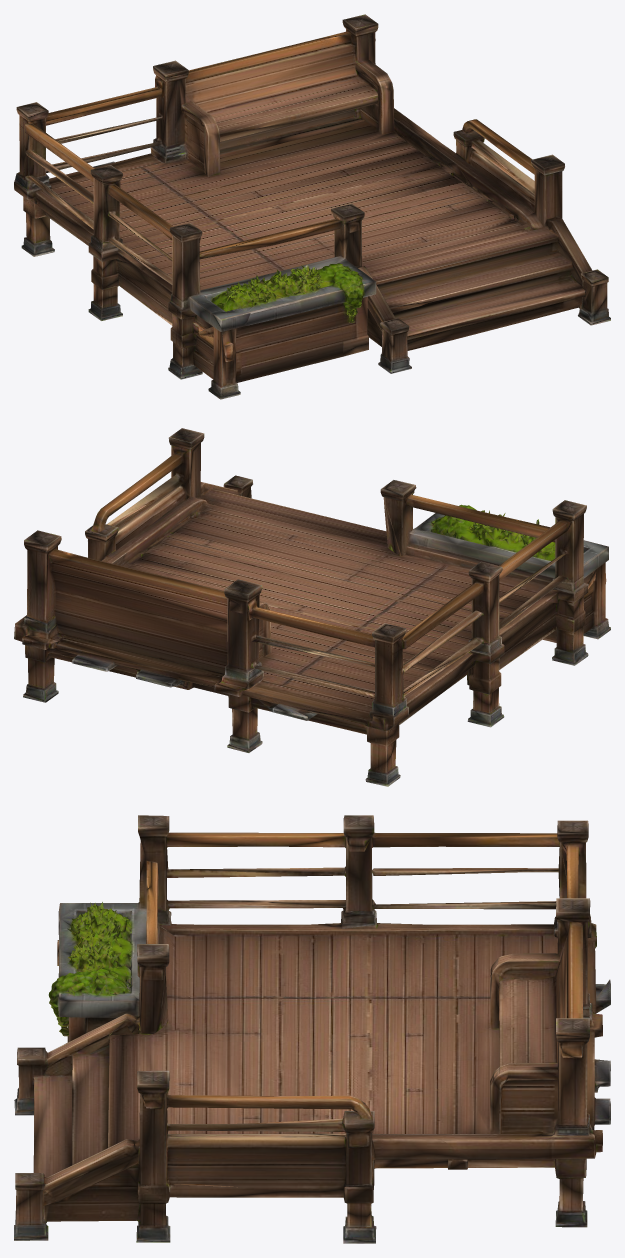
The model's file is city_ordu_beach_deck.glb.
3 views of the same model, one above another, from view 1: azimuth 30°, elevation 25°; view 2: azimuth 150°, elevation 25°; view 3: azimuth 270°, elevation 25° (orthographic). The views are drawn at different scales.
Visible parts, largest first — view 1: Mesh1.0; view 2: Mesh1.0; view 3: Mesh1.0.
Part boxes in pixels (<box>): Mesh1.0: <box>14,14,610,399</box>; Mesh1.0: <box>14,428,610,786</box>; Mesh1.0: <box>14,815,610,1243</box>.
Bounding box in the file's own units: 4.29 × 1.6 × 4.44.
Materials: 1 (1 with a texture image).
